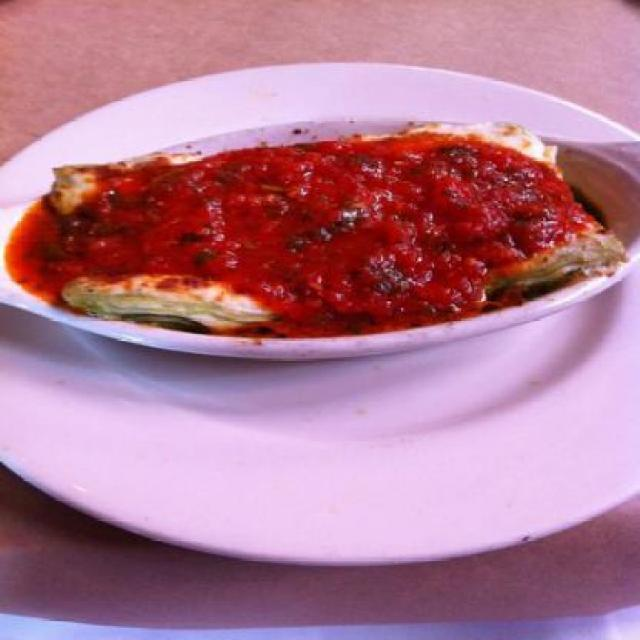Lasagna: (55, 153, 577, 352)
